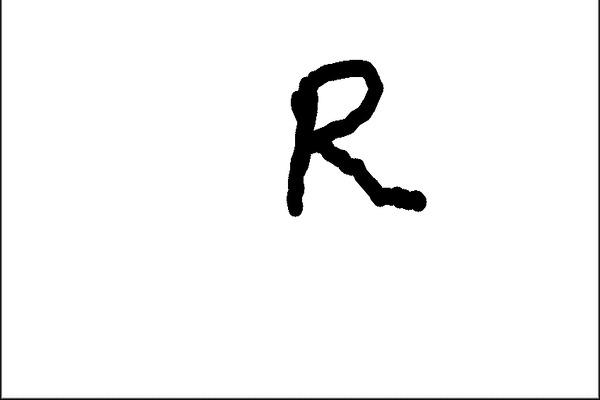R: (259, 41, 439, 230)
